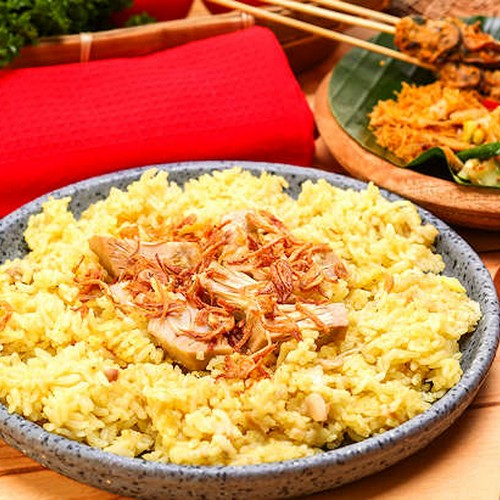nasi tepeng: (25, 173, 448, 461)
